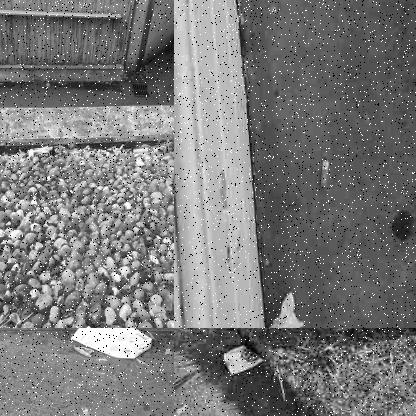plastic: (66, 328, 158, 365), (266, 298, 317, 327), (223, 344, 265, 375), (28, 144, 57, 160)
